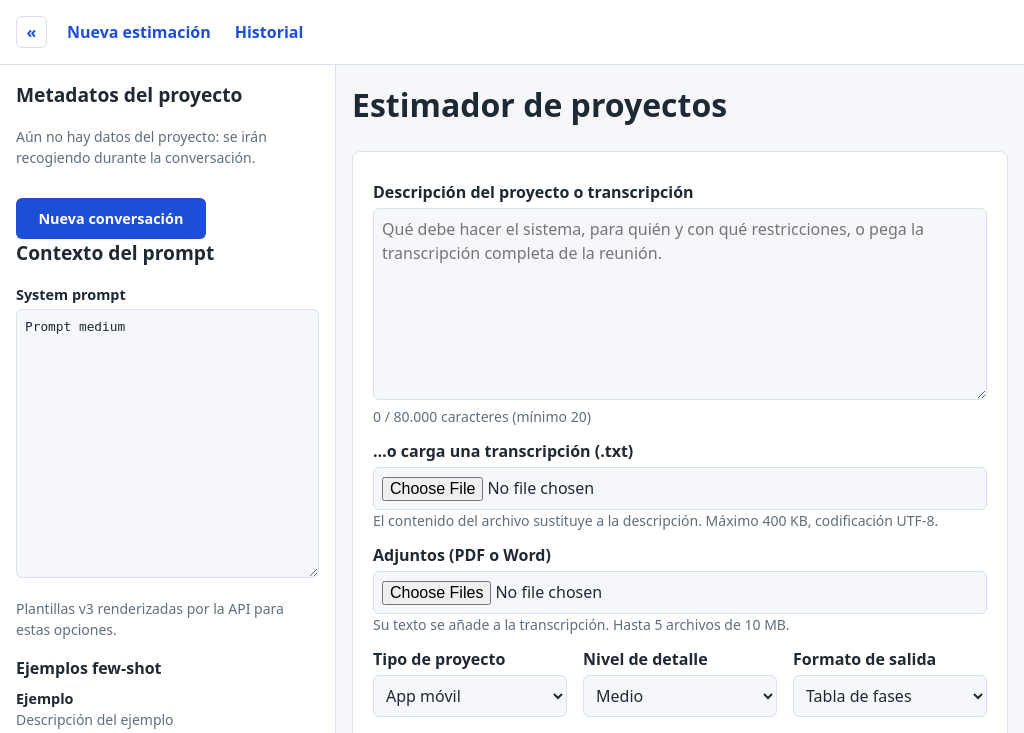
Test case: NewEstimationPage › el botón de la barra la oculta y la vuelve a mostrar
Click the button "«".
click(32, 32)  # box [16,16,47,48]
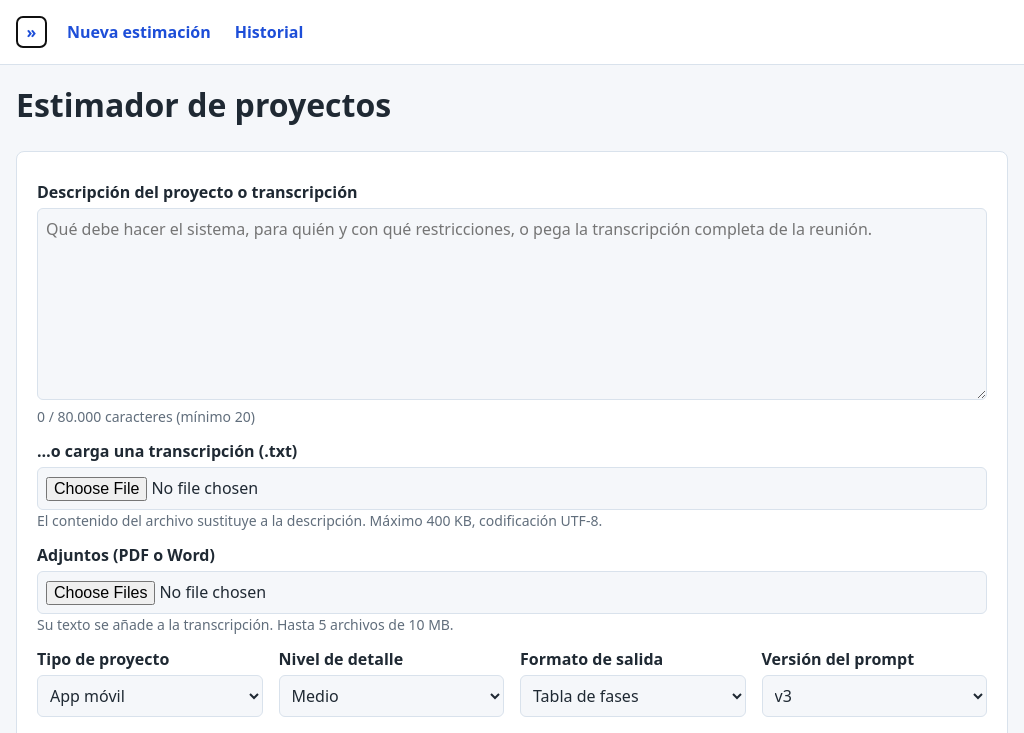
Expected: the button "»" is collapsed, [16,16,47,48]
